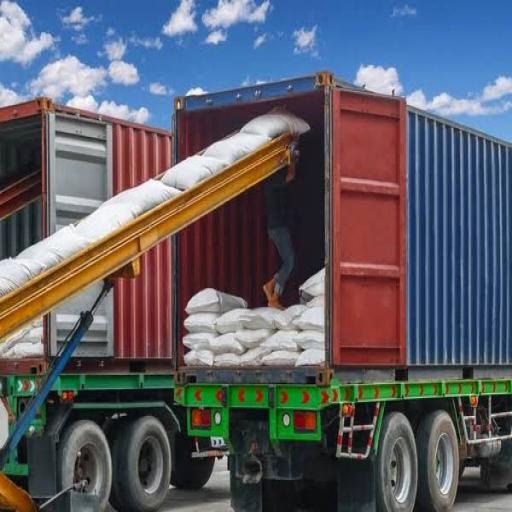Rice-bag-10: (18, 224, 90, 271), (100, 179, 180, 214), (76, 202, 141, 242), (162, 155, 227, 189), (241, 108, 309, 138), (205, 133, 269, 164), (185, 288, 247, 314), (0, 260, 29, 296), (260, 330, 299, 351), (242, 307, 279, 329), (210, 333, 245, 355), (217, 308, 249, 332), (294, 307, 323, 332), (275, 305, 305, 329), (185, 312, 219, 333), (294, 330, 324, 353), (236, 330, 274, 348), (300, 268, 324, 296), (237, 346, 271, 365), (264, 349, 300, 365), (183, 333, 218, 349), (295, 347, 323, 365), (184, 349, 213, 365), (214, 353, 241, 366)
c-belt: (0, 134, 294, 467)
other: (0, 1, 511, 511)
